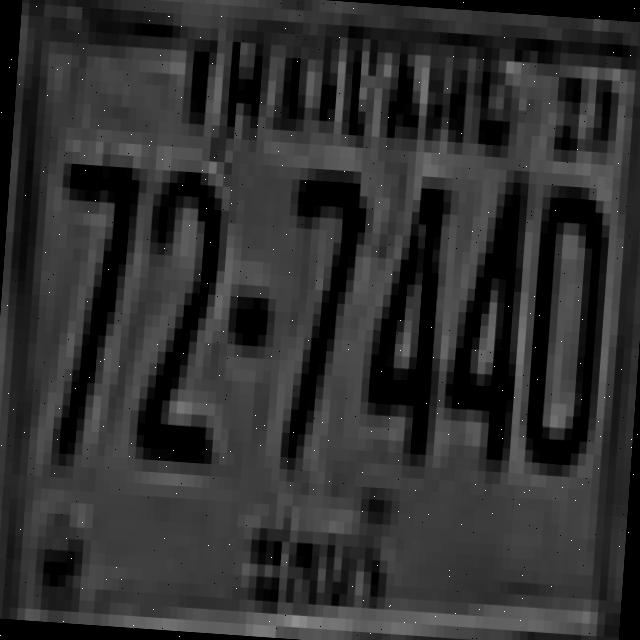0: (516, 178, 604, 460)
2: (128, 162, 224, 458)
4: (436, 166, 526, 460), (361, 173, 448, 455)
7: (43, 156, 140, 464), (272, 166, 368, 462), (50, 156, 140, 366)
ChiangMai: (239, 478, 400, 628)
